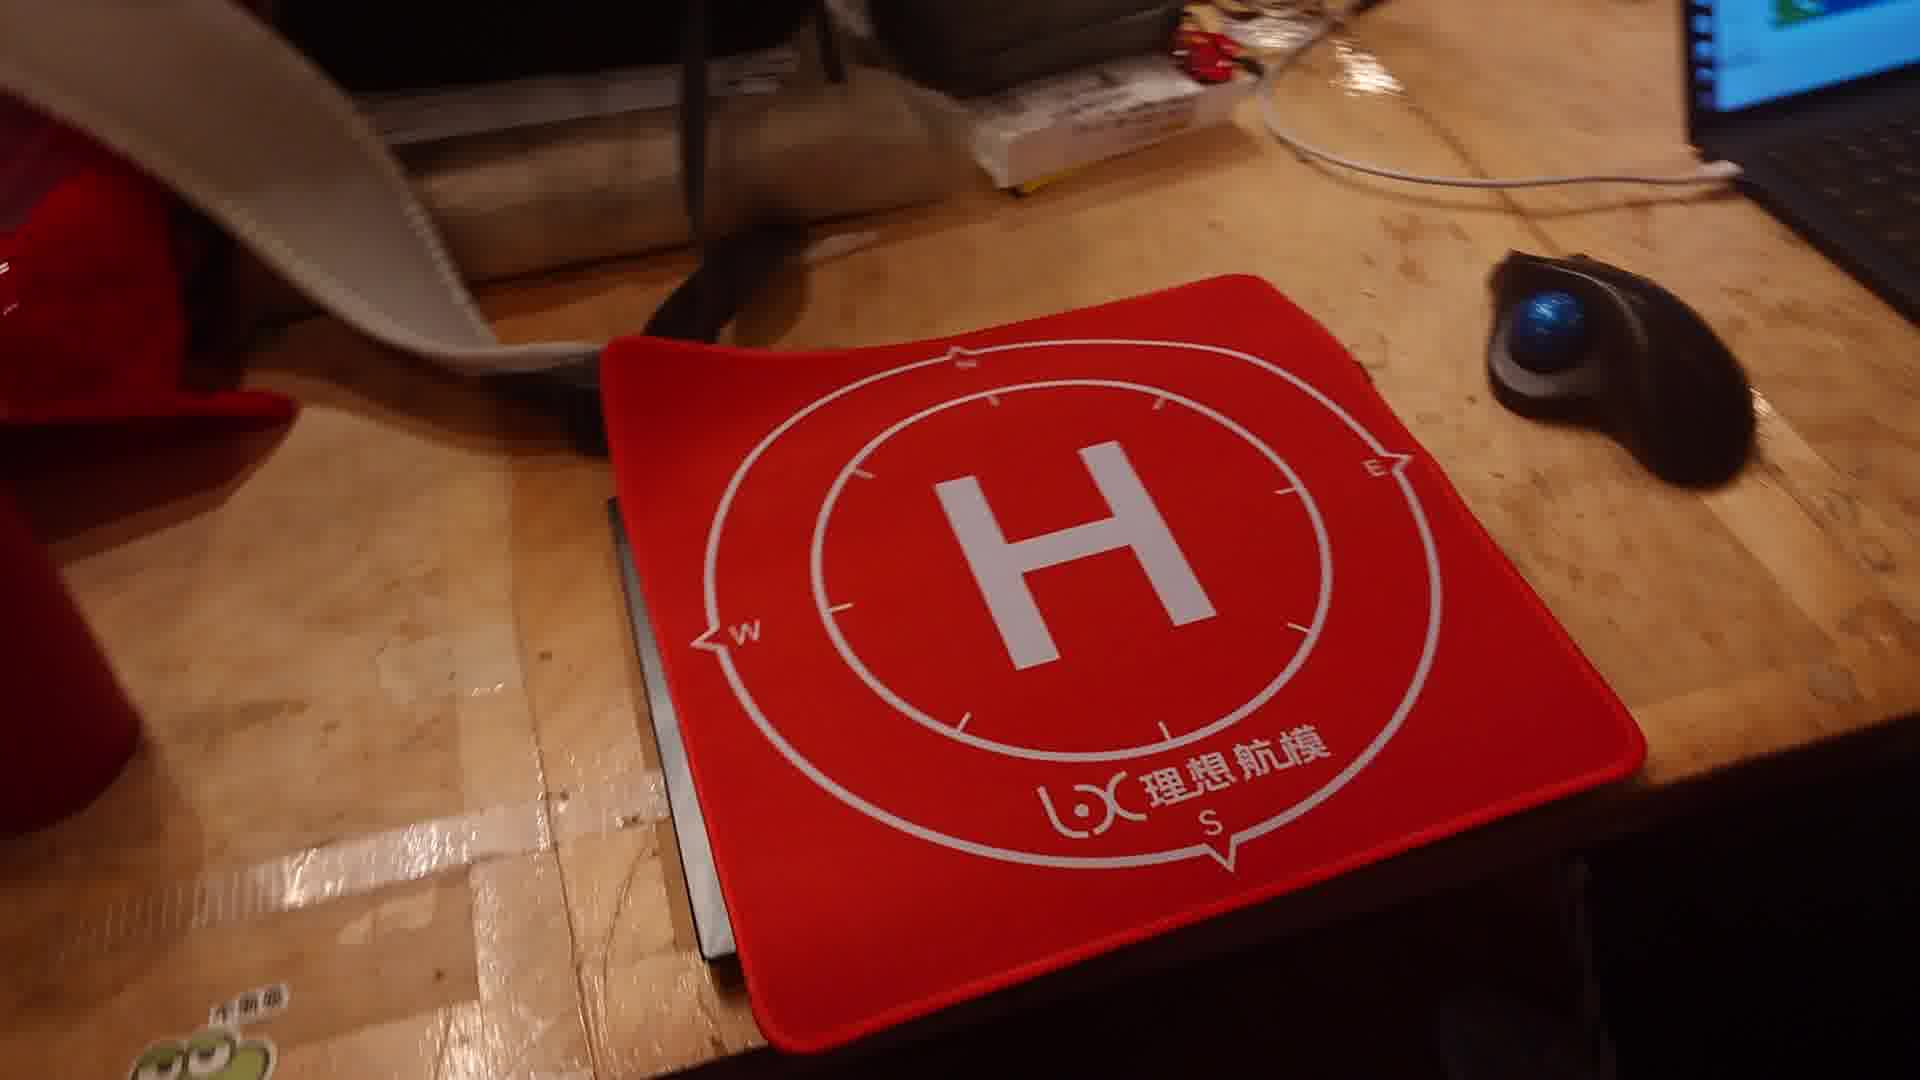H: (938, 436, 1220, 673)
